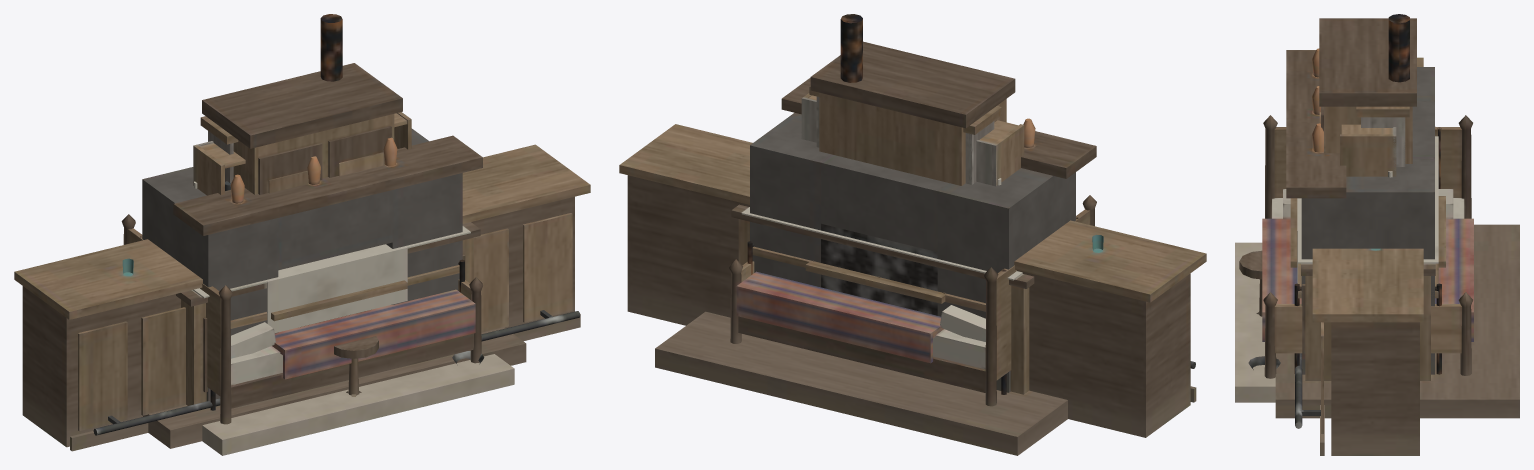
The model's file is furniture.glb.
3 renders of one model, left to right at view 1: azimuth 30°, elevation 25°; view 2: azimuth 150°, elevation 25°; view 3: azimuth 270°, elevation 25°, orthographic.
Visible parts, largest first — view 1: bar_counter, hearth, bed_double, wardrobe, altar_table, shelf_goods, cookstove, table_square, piano, table_long, cupboard; view 2: bar_counter, hearth, altar_table, bed_double, wardrobe, shelf_goods, table_square, cookstove, cupboard, table_long; view 3: hearth, bar_counter, altar_table, bed_double, wardrobe, shelf_goods, cupboard, cookstove, table_square, piano, bed_single.
Part boxes in pixels (x1=…): bar_counter: x1=14, y1=144, x2=590, y2=451; hearth: x1=142, y1=128, x2=514, y2=455; bed_double: x1=121, y1=214, x2=482, y2=424; wardrobe: x1=202, y1=63, x2=402, y2=194; altar_table: x1=143, y1=181, x2=526, y2=448; shelf_goods: x1=193, y1=112, x2=411, y2=195; cookstove: x1=320, y1=14, x2=342, y2=81; table_square: x1=271, y1=280, x2=407, y2=321; piano: x1=334, y1=336, x2=378, y2=396; table_long: x1=230, y1=265, x2=459, y2=328; cupboard: x1=200, y1=116, x2=238, y2=182; bar_counter: x1=619, y1=124, x2=1206, y2=437; hearth: x1=750, y1=77, x2=1096, y2=392; altar_table: x1=655, y1=178, x2=1067, y2=455; bed_double: x1=729, y1=195, x2=1096, y2=406; wardrobe: x1=810, y1=41, x2=1015, y2=185; shelf_goods: x1=801, y1=93, x2=1024, y2=186; table_square: x1=805, y1=260, x2=946, y2=303; cookstove: x1=840, y1=14, x2=862, y2=82; cupboard: x1=809, y1=85, x2=1001, y2=184; table_long: x1=752, y1=246, x2=985, y2=311; hearth: x1=1235, y1=48, x2=1434, y2=402; bar_counter: x1=1248, y1=57, x2=1423, y2=455; altar_table: x1=1275, y1=126, x2=1519, y2=418; bed_double: x1=1262, y1=115, x2=1473, y2=378; wardrobe: x1=1319, y1=18, x2=1416, y2=163; shelf_goods: x1=1340, y1=124, x2=1396, y2=176; cupboard: x1=1356, y1=106, x2=1409, y2=166; cookstove: x1=1388, y1=14, x2=1409, y2=82; table_square: x1=1290, y1=196, x2=1445, y2=267; piano: x1=1239, y1=250, x2=1262, y2=316; bed_single: x1=1294, y1=127, x2=1441, y2=374.
Bounding box in the file's own units: 4.1 × 2.5 × 1.92.
Materials: 1 (1 with a texture image).
